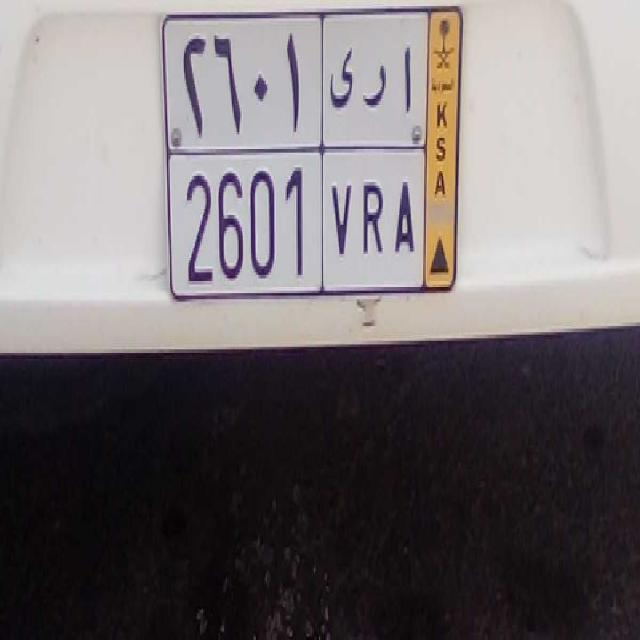license_plate: (167, 149, 425, 297)
